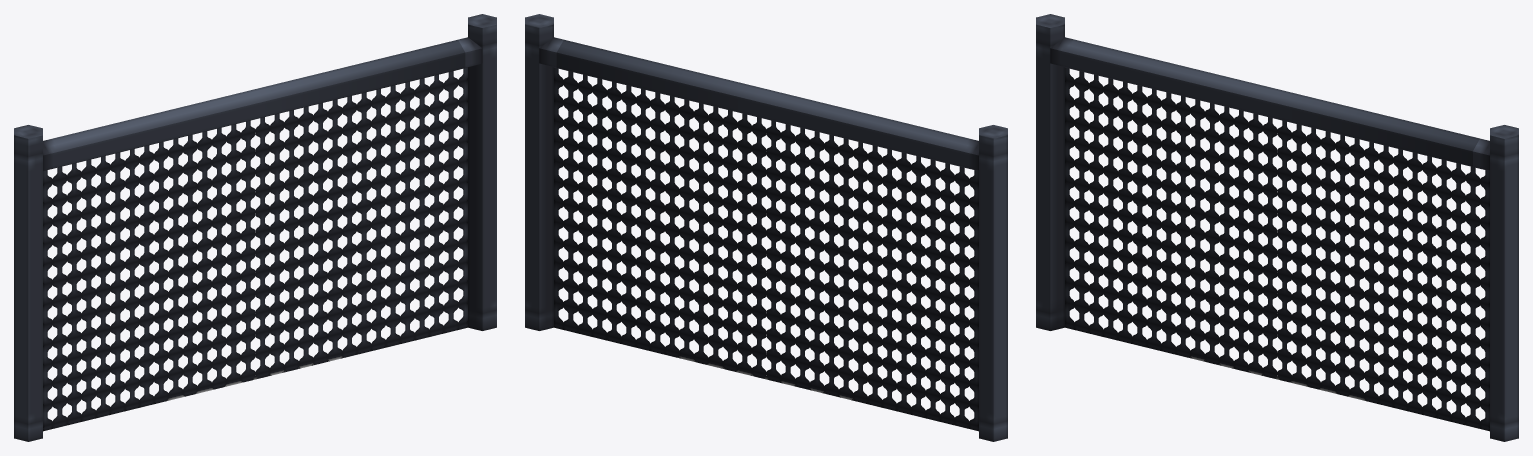
Rendered from Fence_Closed.fbx.
3 views of the same model, side by side, from view 1: azimuth 30°, elevation 25°; view 2: azimuth 150°, elevation 25°; view 3: azimuth 330°, elevation 25° (orthographic).
Parts seen in each view (by area): view 1: Fence_Closed; view 2: Fence_Closed; view 3: Fence_Closed.
Boxes of the visible parts, left/top/right/bottom form: Fence_Closed: left=14, top=14, right=496, bottom=441; Fence_Closed: left=525, top=14, right=1007, bottom=441; Fence_Closed: left=1036, top=14, right=1518, bottom=441.
Bounding box in the file's own units: 25.01 × 15 × 1.3.
